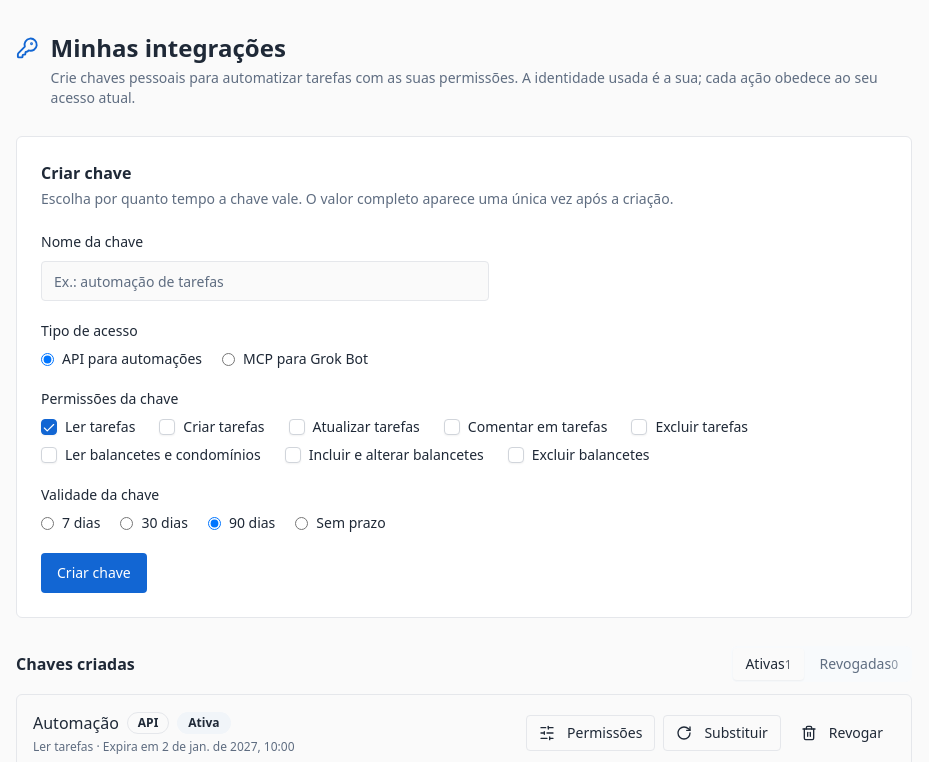
Test: personal integration keys › keeps revoke failure visible after the replacement list refreshes
What coordinates should you click on to do the following:
click the button "Substituir"
I would click on:
 (722, 733)
Its box is [663,715,781,751].
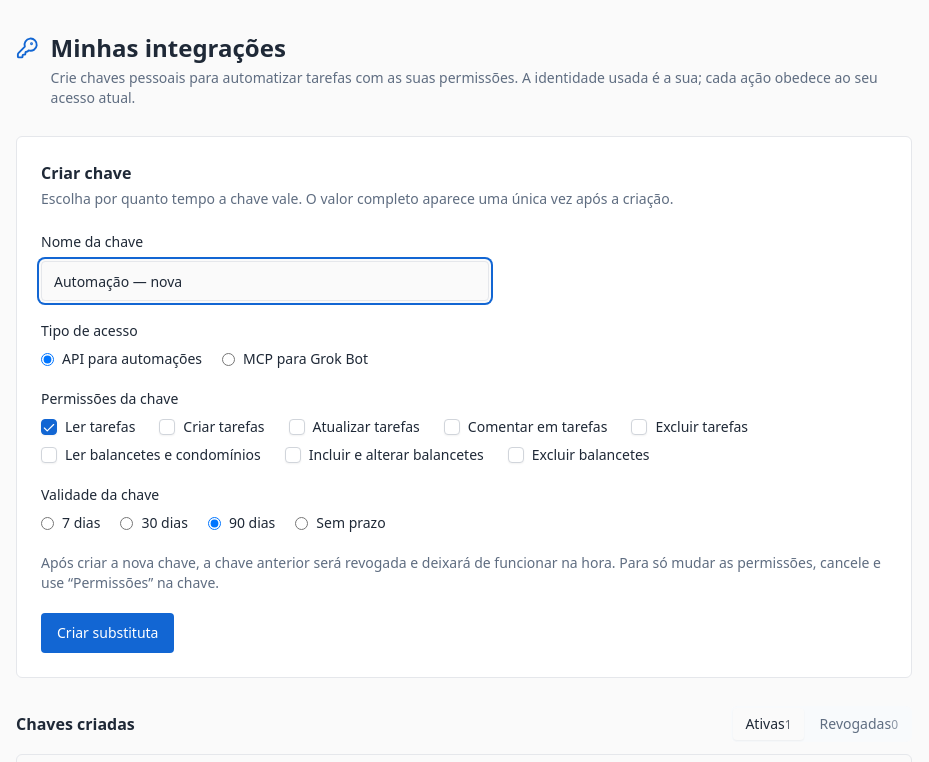
What coordinates should you click on to do the following:
click the button "Criar substituta"
I would click on:
 (108, 633)
Its box is [41,613,174,653].
(page scrolled)
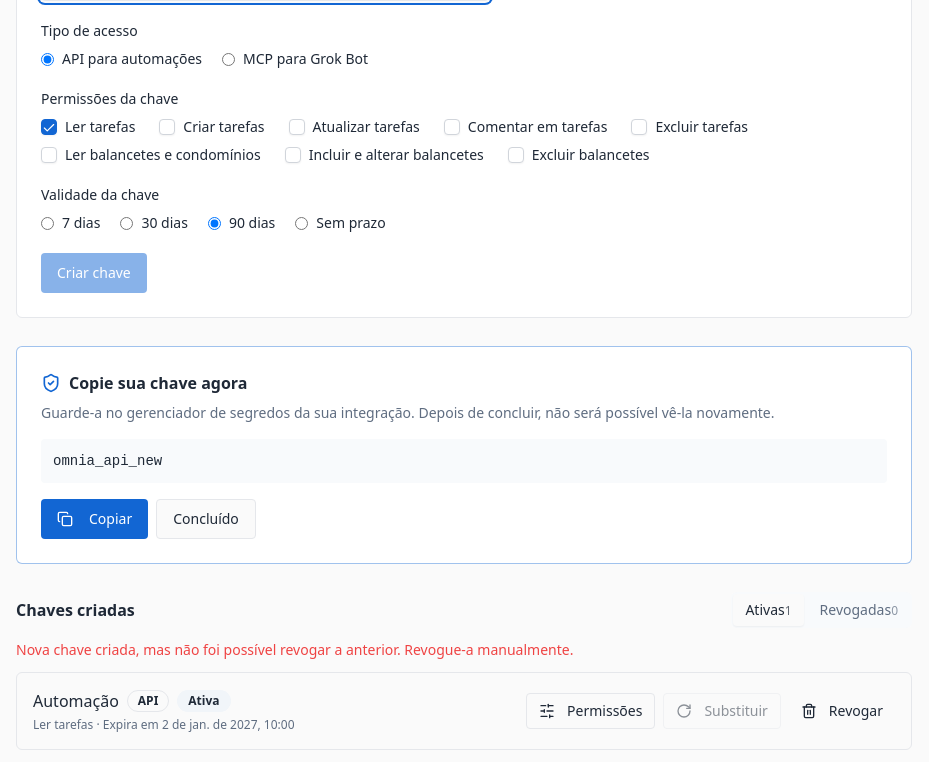
Check: the message shows "Revogue-a manualmente", box [16,640,573,659]
Check: the text "omnia_api_new" is shown, box [41,439,887,483]
